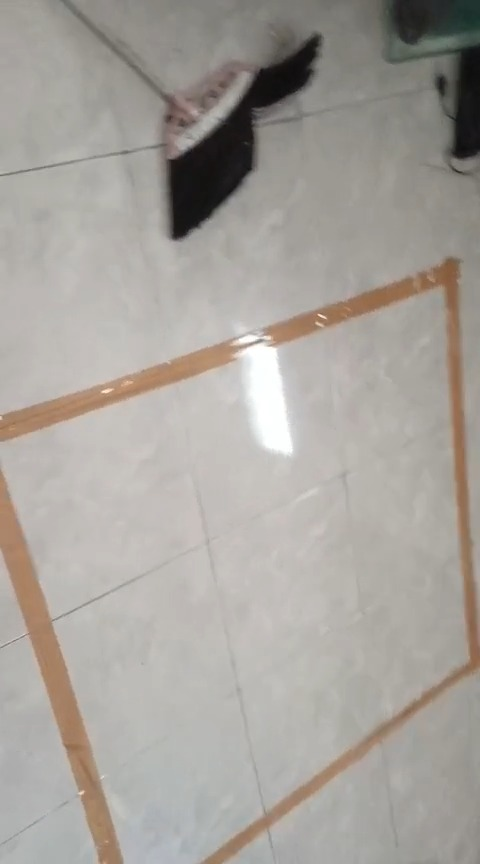floor marking: (0, 258, 479, 863), (0, 473, 120, 863)
